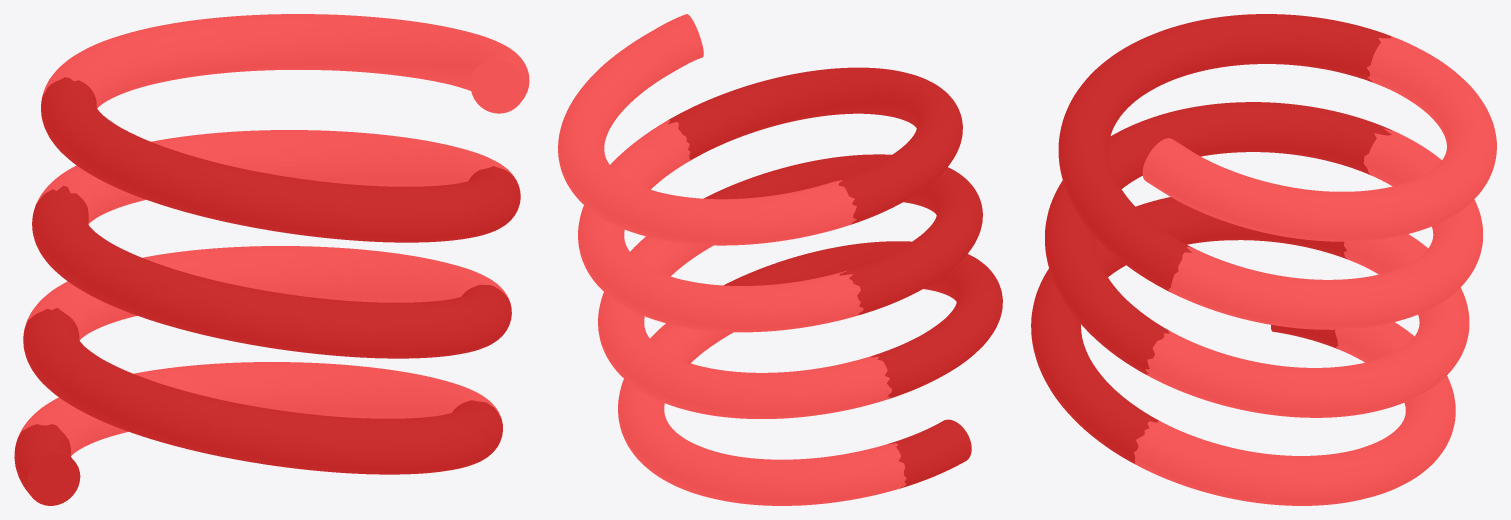
File: dot2.glb
The picture shows the model from 3 angles, left to right: view 1: azimuth 30°, elevation 25°; view 2: azimuth 150°, elevation 25°; view 3: azimuth 270°, elevation 25°; orthographic projection. The views are drawn at different scales.
Parts seen in each view (by area): view 1: spring; view 2: spring; view 3: spring.
Boxes of the visible parts, <box> form: spring: <box>14,14,529,505</box>; spring: <box>558,14,1002,505</box>; spring: <box>1031,14,1496,505</box>.
Size of the model in its own units: 1.43 by 1.25 by 1.37.
